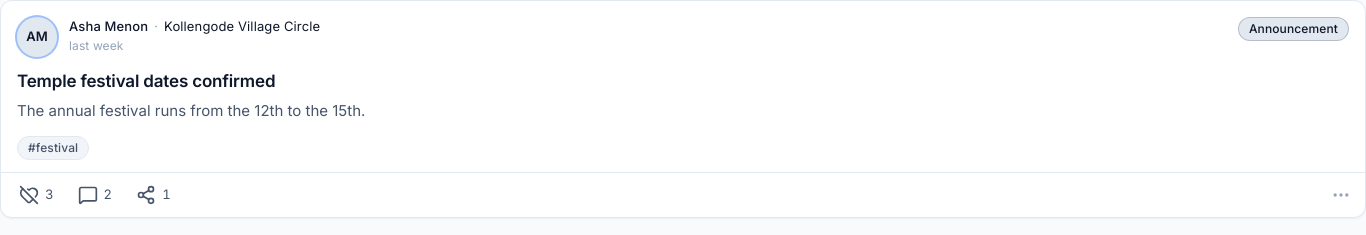
it: PostCard › hides moderator actions from an ordinary member but offers reporting
Click the button named "more actions" at (1341, 195), box [1325,179,1357,211]
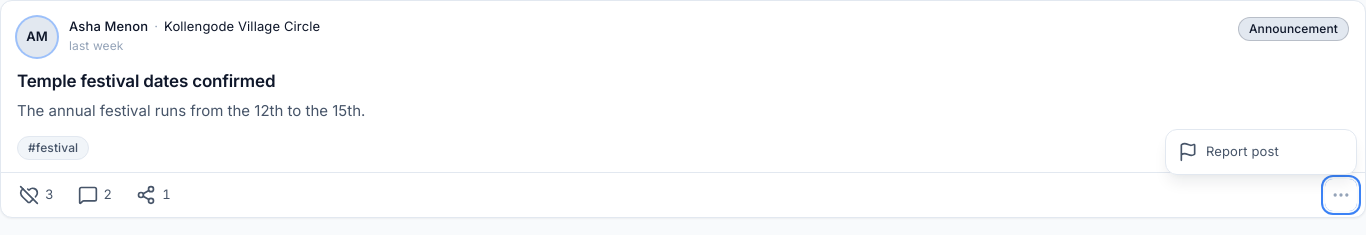
Expected: the menu item "Report post" is shown, [1166,134,1356,170]
